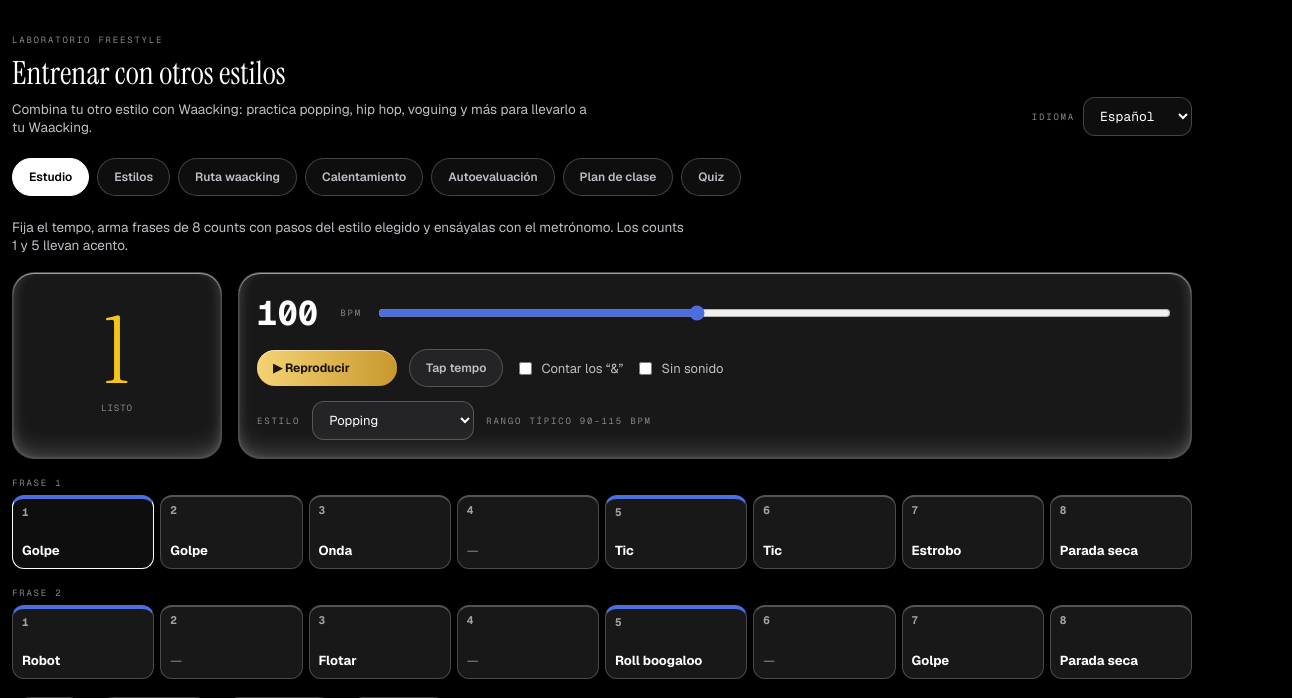
it: Entrenar con otros estilos › en el estudio, tocar un paso llena el count seleccionado y avanza
The width and height of the screenshot is (1292, 698).
Click the button named "1.4" at (528, 532), box 457,495 -> 599,569
(page scrolled)
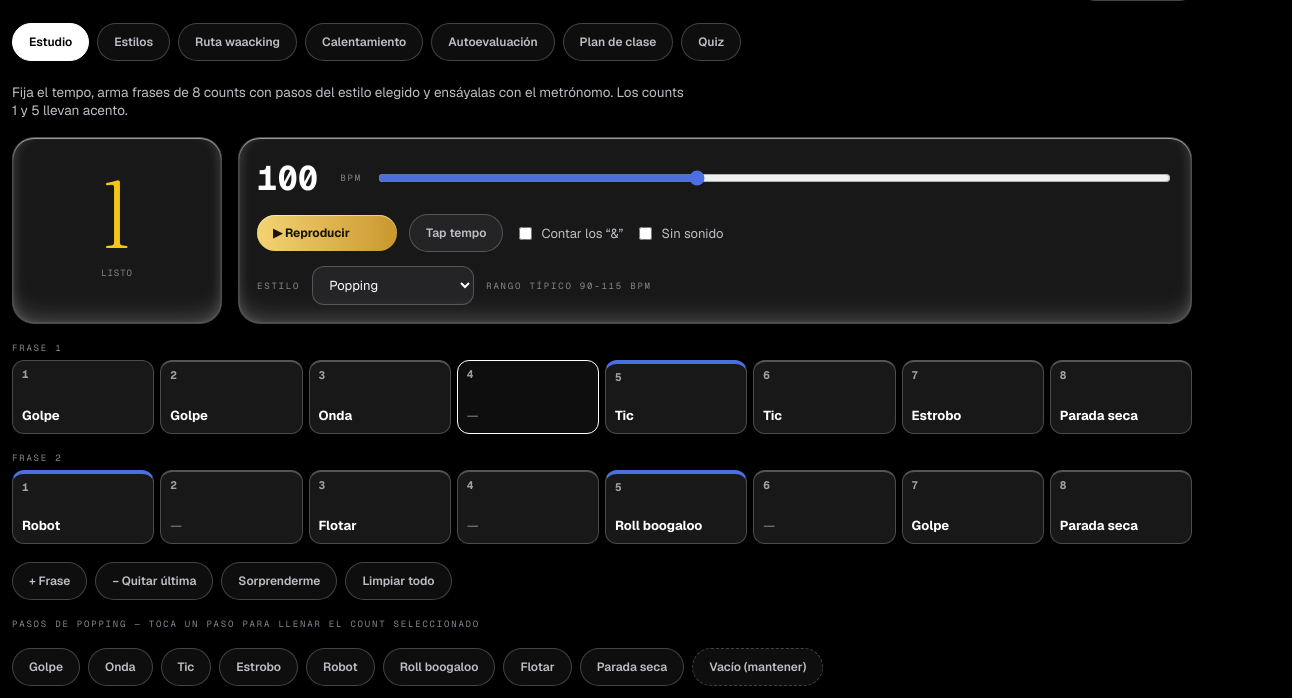
Click the button "Golpe" at (46, 667), box 12,648 -> 80,686
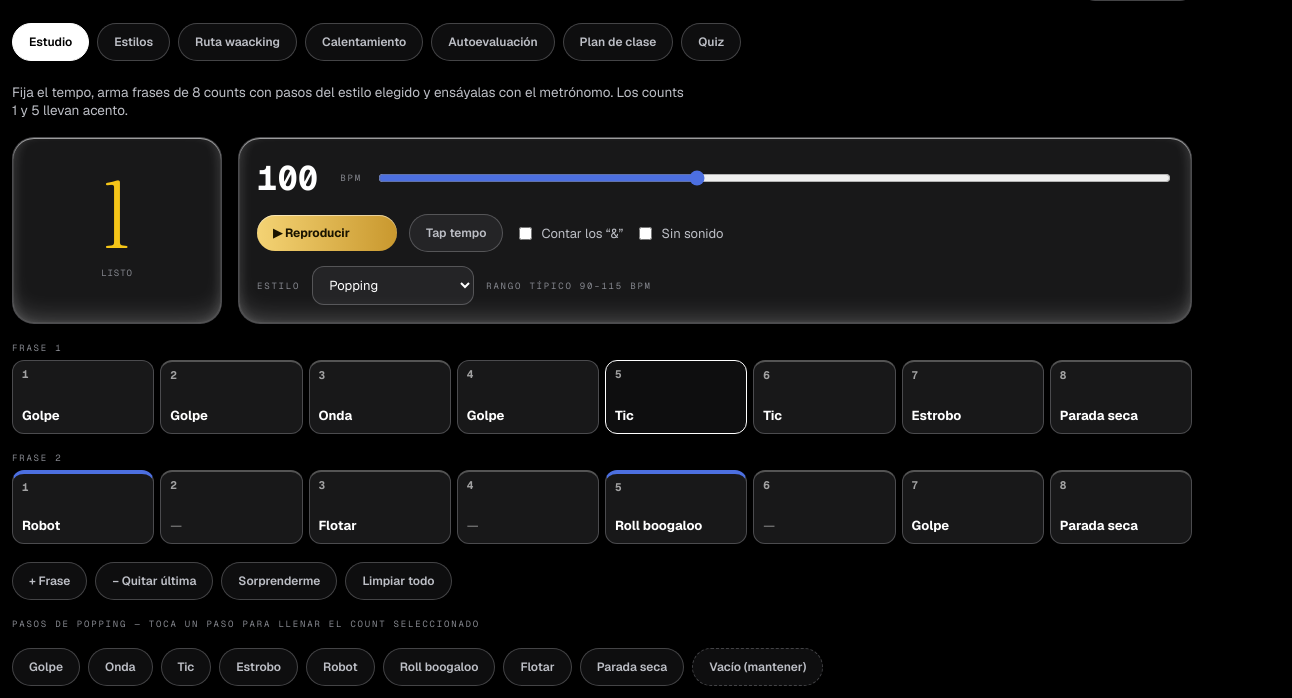
expect the button with aria-label "1.4" shows "Golpe": met, box 457,360 -> 599,434
